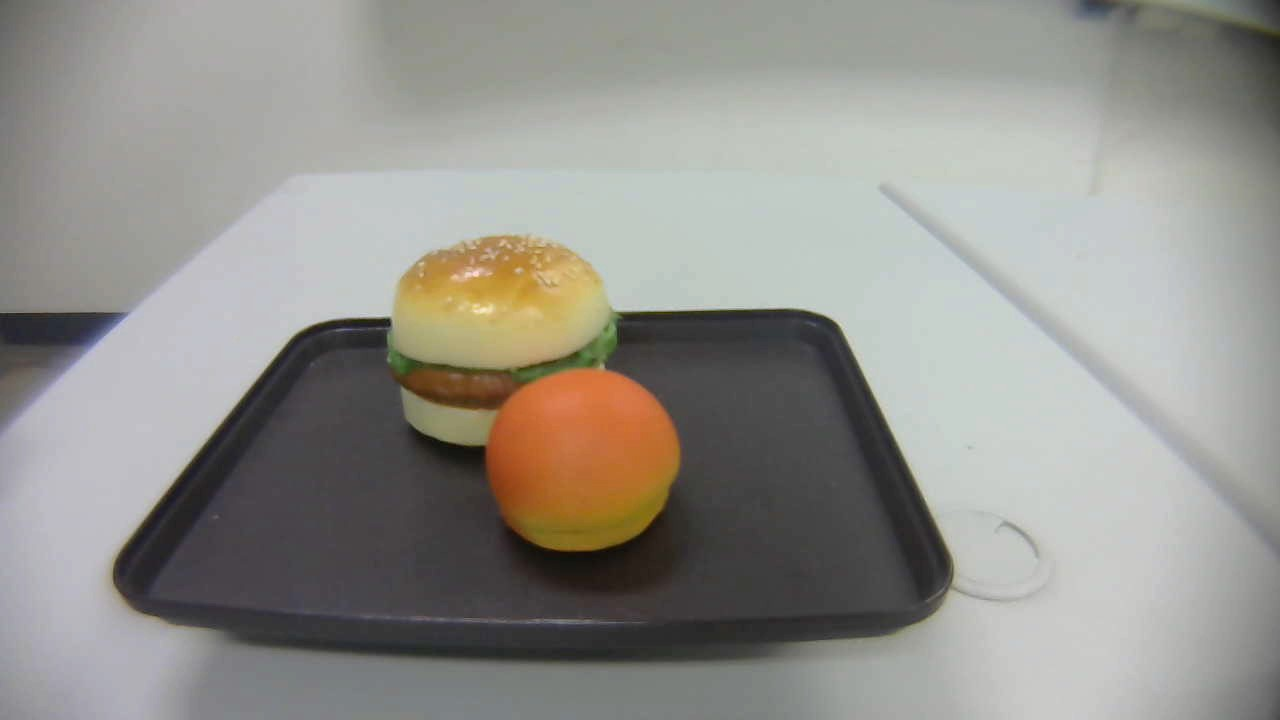bun: (486, 367, 681, 552)
hamburger: (388, 231, 617, 448)
